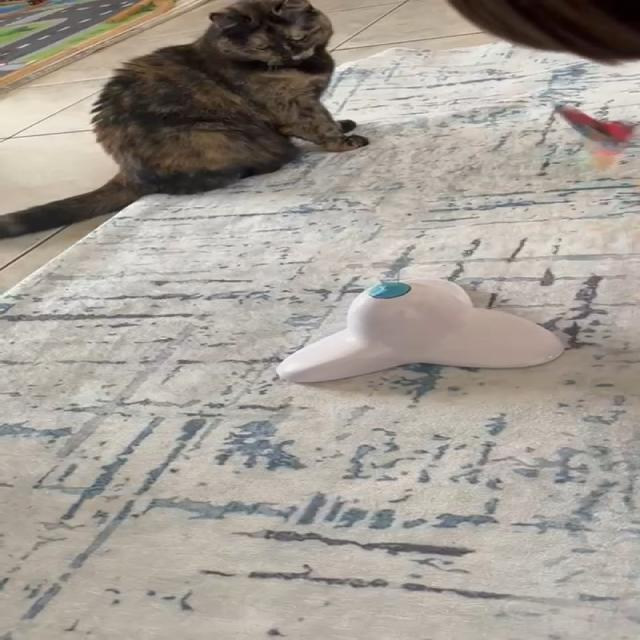authorized: (0, 0, 368, 240)
